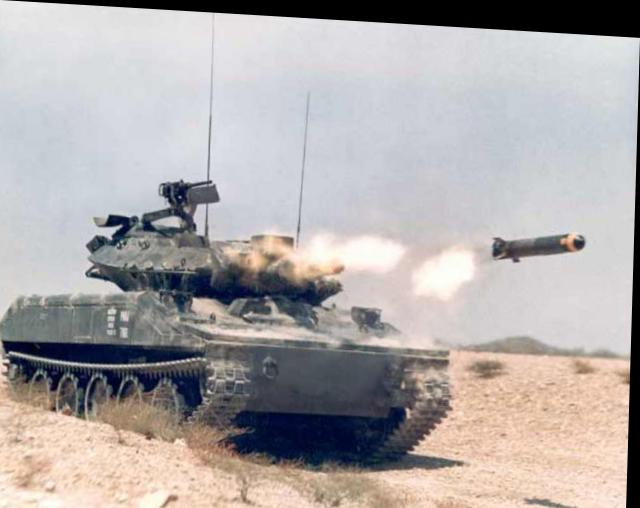tank: (0, 223, 447, 470)
